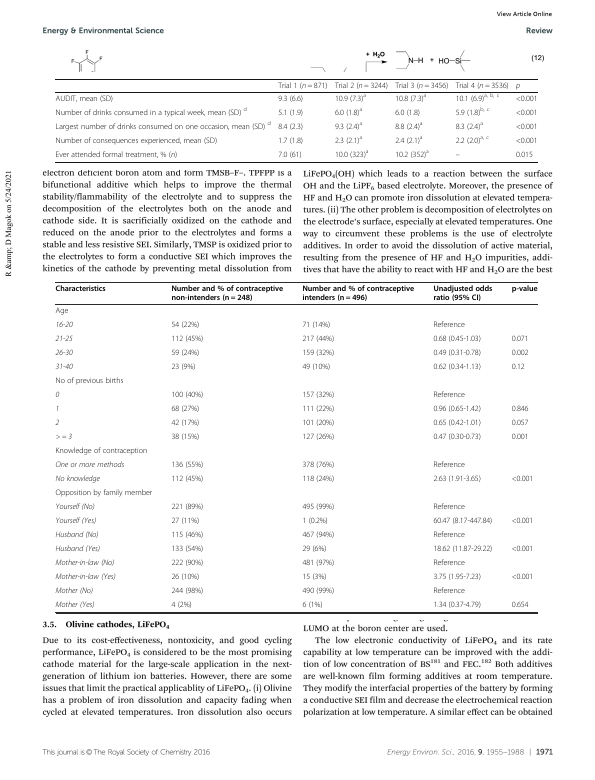borderless: (54, 281, 537, 612), (54, 77, 538, 162)
cell: (55, 120, 272, 132), (55, 106, 248, 118), (170, 285, 284, 303), (301, 285, 415, 303), (55, 136, 218, 146), (55, 150, 178, 160), (432, 285, 493, 303), (55, 489, 153, 499), (55, 447, 148, 457), (55, 377, 124, 387), (55, 461, 125, 470), (432, 517, 493, 527), (432, 545, 493, 555), (55, 94, 114, 104), (55, 573, 117, 582), (55, 559, 115, 568), (455, 92, 500, 104), (432, 335, 482, 345), (432, 349, 482, 359), (432, 363, 482, 373), (432, 405, 482, 415), (432, 419, 482, 429), (432, 433, 482, 443), (432, 475, 482, 485), (432, 573, 482, 583), (432, 601, 482, 611), (334, 81, 389, 90), (394, 81, 449, 90), (455, 81, 510, 90), (55, 285, 107, 294), (55, 475, 101, 485), (277, 81, 328, 90), (394, 148, 430, 160), (455, 106, 490, 118), (455, 134, 490, 146), (334, 148, 369, 160), (55, 545, 101, 554), (55, 531, 99, 540), (334, 92, 367, 104), (394, 92, 427, 104), (55, 517, 97, 526), (55, 503, 96, 512), (55, 601, 95, 610), (55, 587, 94, 596), (334, 106, 363, 118), (334, 120, 363, 132), (394, 120, 423, 132), (455, 120, 484, 132), (334, 134, 363, 146), (394, 134, 423, 146), (432, 321, 466, 331), (170, 335, 204, 345), (301, 335, 335, 345), (301, 349, 335, 359), (170, 391, 204, 401), (301, 391, 335, 401), (432, 391, 466, 401), (301, 405, 335, 415), (301, 419, 335, 429), (301, 433, 335, 443), (170, 461, 204, 471), (301, 461, 335, 471), (432, 461, 466, 471), (170, 475, 204, 485), (301, 475, 335, 485), (170, 503, 204, 513), (301, 503, 335, 513), (432, 503, 466, 513), (170, 531, 204, 541), (301, 531, 335, 541), (432, 531, 466, 541), (170, 545, 204, 555), (170, 559, 204, 569), (301, 559, 335, 569), (432, 559, 466, 569), (170, 587, 204, 597), (301, 587, 335, 597), (432, 587, 466, 597), (170, 321, 200, 331), (301, 321, 331, 331), (170, 349, 200, 359), (301, 363, 331, 373), (170, 405, 200, 415), (170, 419, 200, 429), (170, 433, 200, 443), (170, 517, 200, 527), (170, 573, 200, 583), (301, 517, 329, 527), (277, 94, 304, 104), (277, 108, 304, 118), (394, 108, 421, 118), (277, 122, 304, 132), (277, 136, 304, 146), (170, 363, 196, 373), (301, 545, 327, 555), (301, 573, 327, 583), (277, 150, 302, 160), (511, 285, 538, 294), (511, 475, 534, 485), (511, 517, 534, 527), (511, 545, 534, 555), (511, 573, 534, 583), (515, 94, 538, 104), (515, 108, 538, 118), (515, 122, 538, 132), (515, 136, 538, 146), (170, 601, 192, 611), (301, 601, 323, 611), (515, 150, 534, 160), (511, 335, 529, 345), (511, 349, 529, 359), (511, 405, 529, 415), (511, 419, 529, 429), (511, 433, 529, 443), (511, 601, 529, 611), (55, 321, 73, 330), (55, 335, 73, 344), (55, 349, 73, 358), (55, 363, 73, 372), (55, 433, 73, 442), (511, 363, 526, 373), (55, 307, 69, 317), (55, 391, 60, 400), (55, 405, 60, 414), (55, 419, 60, 428), (515, 83, 521, 90), (455, 154, 461, 158)
